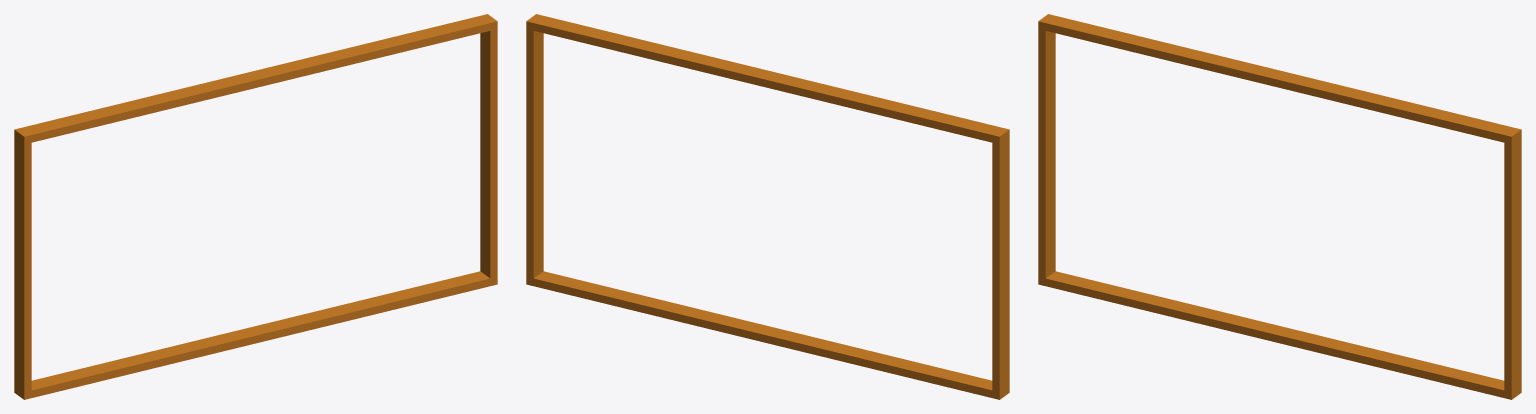
File: field.obj
3 renders of one model, left to right at view 1: azimuth 30°, elevation 25°; view 2: azimuth 150°, elevation 25°; view 3: azimuth 330°, elevation 25°, orthographic.
Parts seen in each view (by area): view 1: Field_Assembly_v10; view 2: Field_Assembly_v10; view 3: Field_Assembly_v10.
Boxes of the visible parts, bbox=[...] form: Field_Assembly_v10: bbox=[14, 14, 497, 399]; Field_Assembly_v10: bbox=[526, 14, 1009, 399]; Field_Assembly_v10: bbox=[1038, 14, 1521, 399].
Bounding box in the file's own units: 2.44 × 1.3 × 0.0889.
